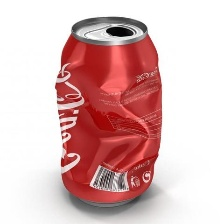can: (51, 14, 166, 213)
